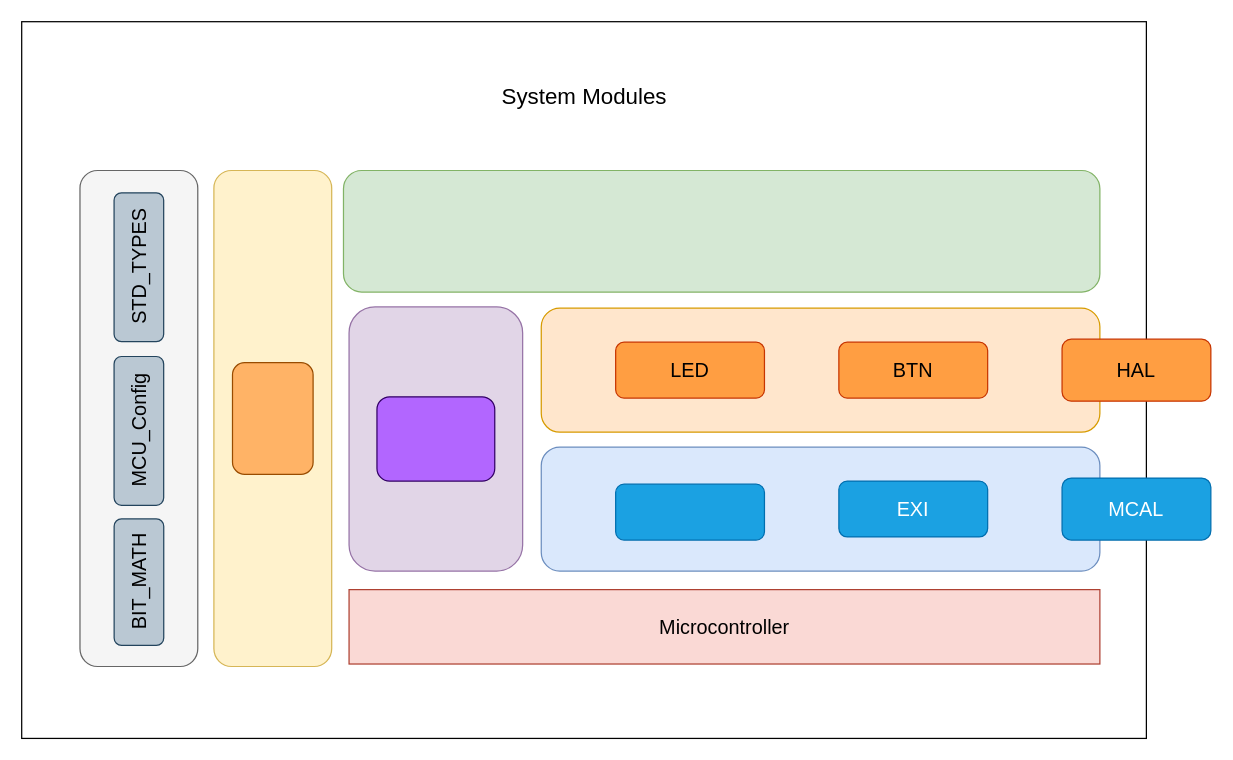
This 1233x760 diagram has some shape labels left out. The box of each missing label's shape, as (x1, y1, x2, y2) in pixels:
Application Layer: (342, 169, 1100, 292)
Delay: (231, 361, 313, 474)
DIO: (614, 483, 764, 540)
SOS: (376, 396, 495, 481)
